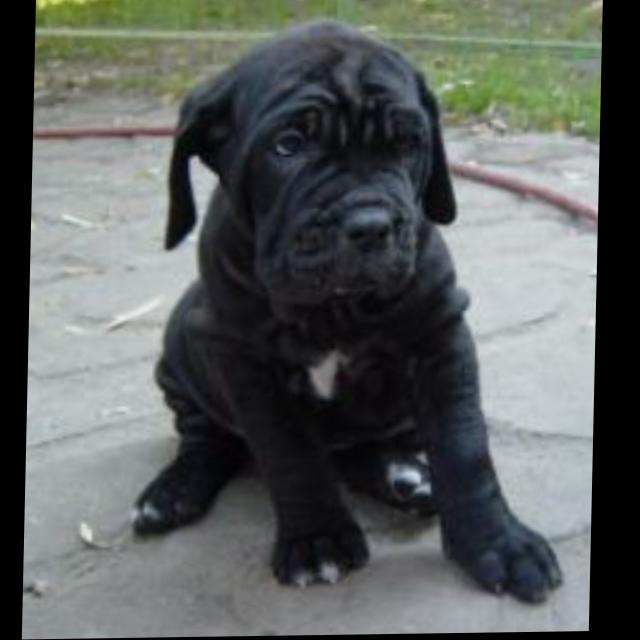bullmastiff: (134, 15, 581, 610)
